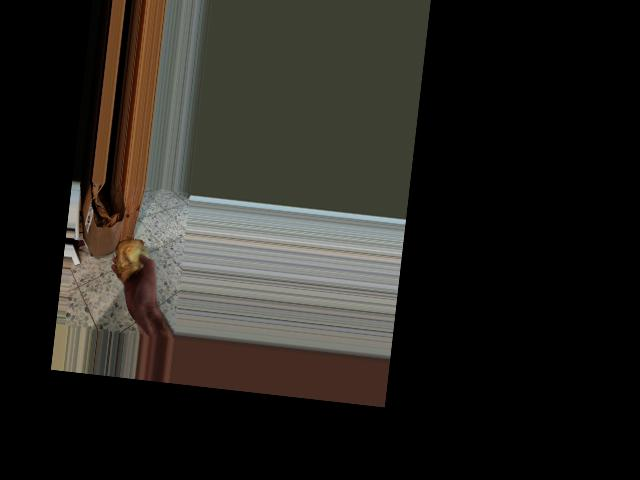onion: (112, 234, 152, 286)
